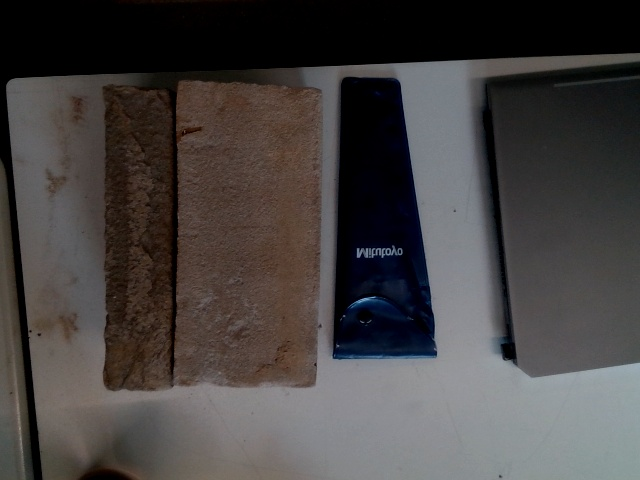brick: (168, 83, 324, 382)
